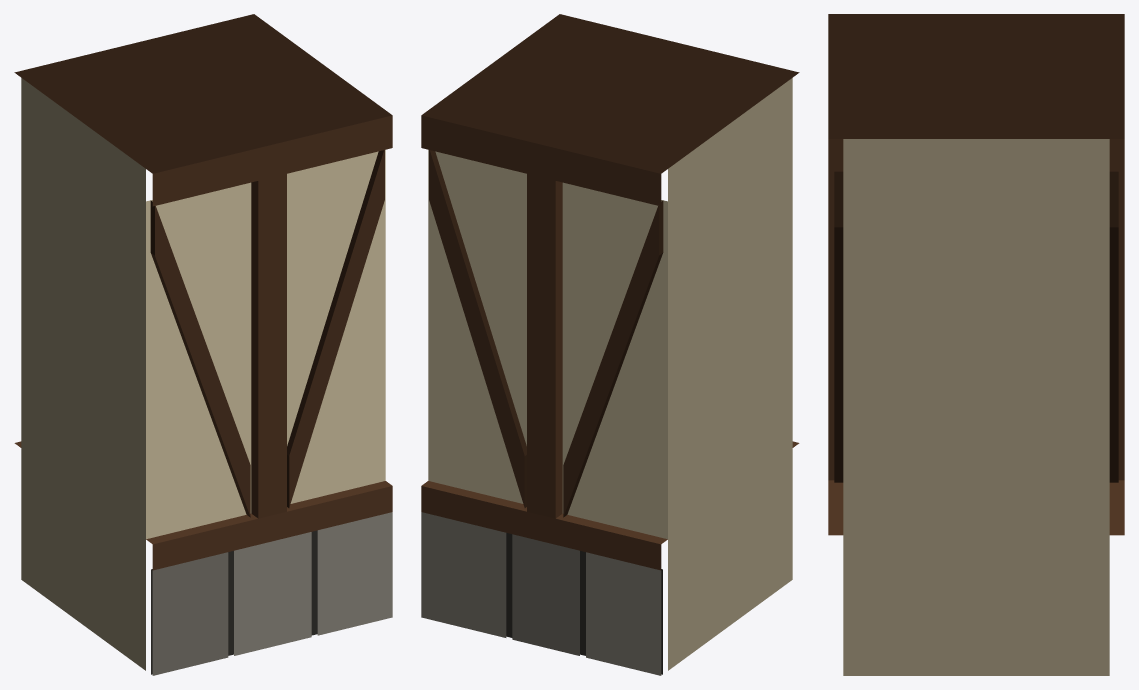
File: tile_house_wall_12_3.glb
3 views of the same model, side by side, from view 1: azimuth 30°, elevation 25°; view 2: azimuth 150°, elevation 25°; view 3: azimuth 270°, elevation 25° (orthographic). The views are drawn at different scales.
Visible parts, largest first — view 1: tile_house_wall_12_3; view 2: tile_house_wall_12_3; view 3: tile_house_wall_12_3.
Part boxes in pixels (x1=…): tile_house_wall_12_3: x1=14, y1=14, x2=392, y2=675; tile_house_wall_12_3: x1=421, y1=14, x2=799, y2=675; tile_house_wall_12_3: x1=828, y1=14, x2=1124, y2=675.
Bounding box in the file's own units: 1 × 2 × 1.
